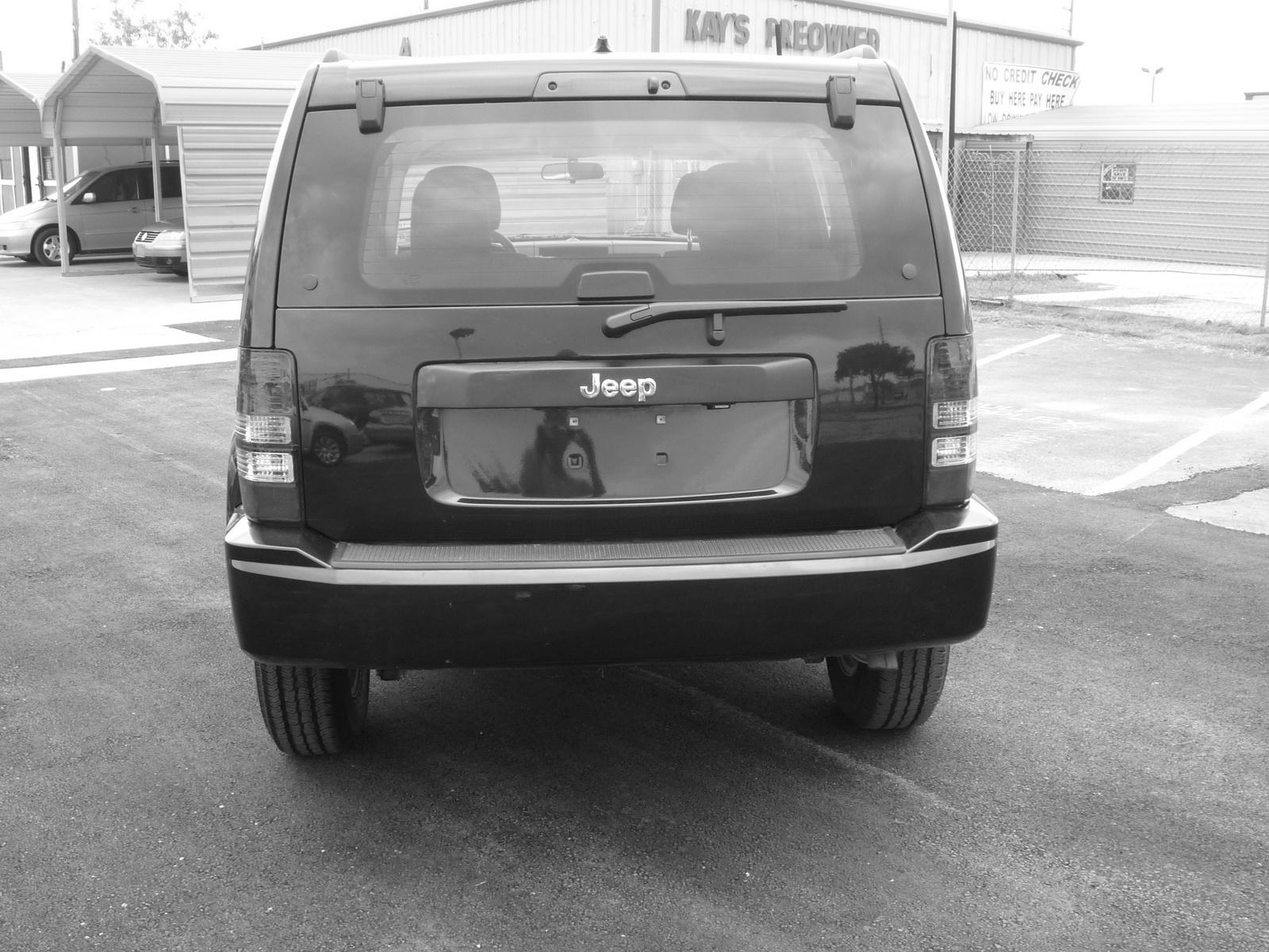car: (217, 56, 1003, 762)
